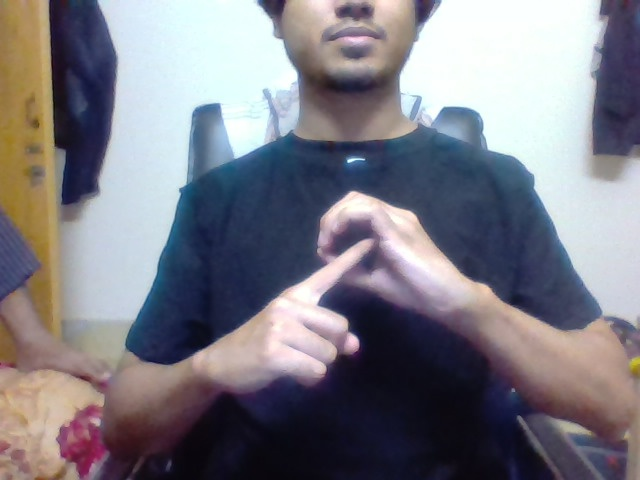Q: (327, 207, 399, 286)
